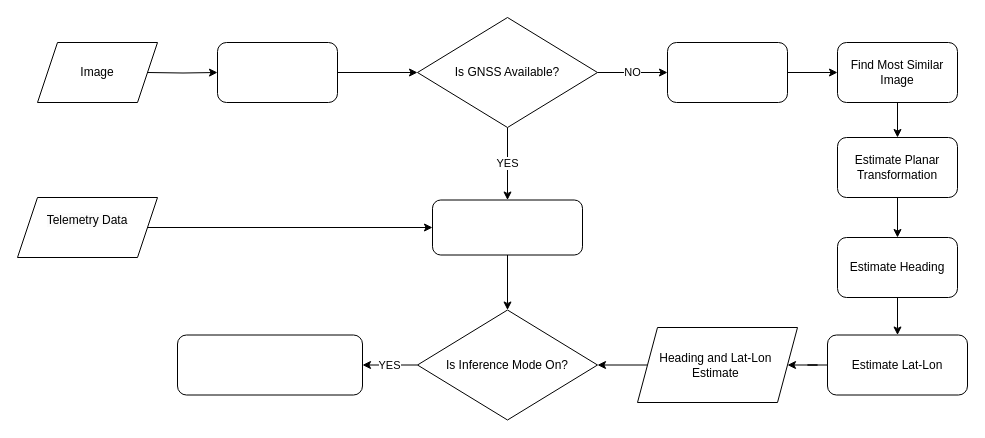
The diagram is 985 pixels wide and 438 high, and some of its shapes have lost their labels. The shapes that lost their labels are listed below. From the top down, each one's centre as x and y in pixels, then its label:
At point (277, 72): "Extract Features".
At point (727, 72): "Match Features".
At point (507, 227): "Store Corresponding Features and Telemetry".
At point (269, 364): "Infer Parameters (Altitude and Camera)".
